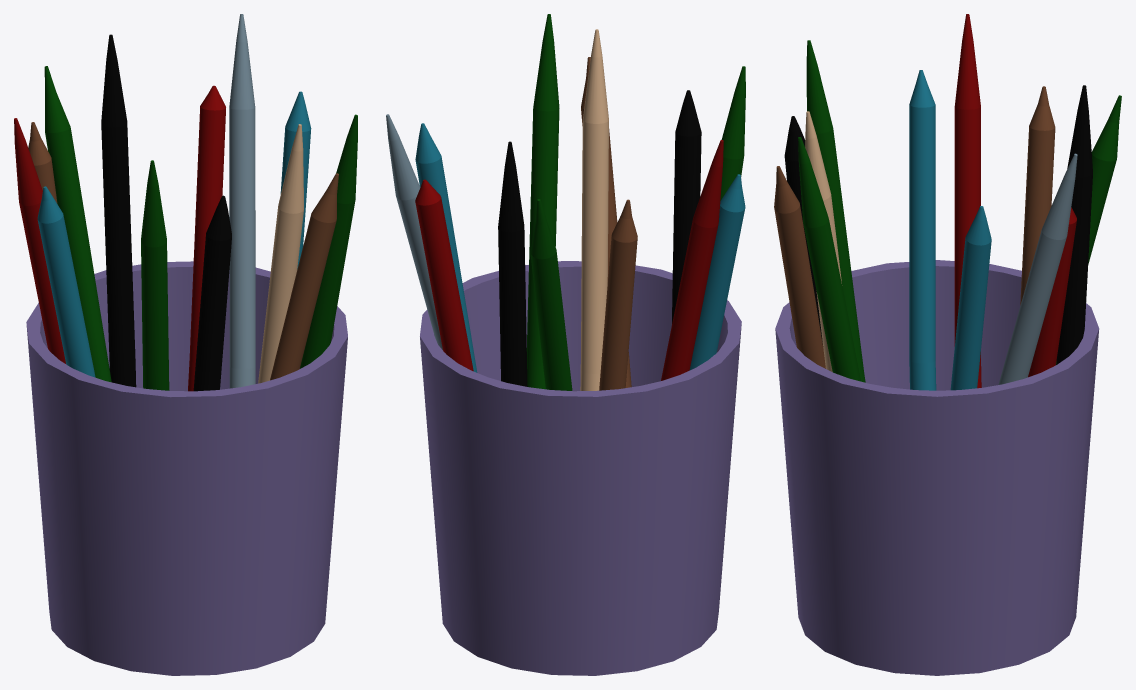
Rendered from PotCrayon_3.fbx.
3 views of the same model, side by side, from view 1: azimuth 30°, elevation 25°; view 2: azimuth 150°, elevation 25°; view 3: azimuth 270°, elevation 25° (orthographic).
Visible parts, largest first — view 1: pPipe106, pCylinder207, pCylinder205, pCylinder230, pCylinder229, pCylinder227, pCylinder232, pCylinder214, pCylinder203, pCylinder231, pCylinder197, pCylinder235 (+2 smaller); view 2: pPipe106, pCylinder227, pCylinder197, pCylinder205, pCylinder235, pCylinder214, pCylinder204, pCylinder230, pCylinder231, pCylinder203, pCylinder207, pCylinder240 (+2 smaller); view 3: pPipe106, pCylinder231, pCylinder197, pCylinder235, pCylinder207, pCylinder205, pCylinder232, pCylinder240, pCylinder229, pCylinder204, pCylinder214, pCylinder230 (+2 smaller).
Boxes of the visible parts, left/top/right/bottom form: pPipe106: left=26, top=261, right=347, bottom=675; pCylinder207: left=229, top=14, right=255, bottom=388; pCylinder205: left=101, top=34, right=136, bottom=387; pCylinder230: left=44, top=66, right=111, bottom=382; pCylinder229: left=141, top=160, right=169, bottom=390; pCylinder227: left=258, top=124, right=303, bottom=383; pCylinder232: left=270, top=173, right=338, bottom=380; pCylinder214: left=188, top=85, right=225, bottom=391; pCylinder203: left=193, top=195, right=231, bottom=391; pCylinder231: left=37, top=186, right=95, bottom=377; pCylinder197: left=300, top=114, right=357, bottom=368; pCylinder235: left=14, top=118, right=65, bottom=363; pPipe106: left=420, top=261, right=741, bottom=675; pCylinder227: left=580, top=29, right=608, bottom=390; pCylinder197: left=526, top=14, right=559, bottom=389; pCylinder205: left=498, top=141, right=527, bottom=386; pCylinder235: left=661, top=140, right=723, bottom=380; pCylinder214: left=415, top=179, right=473, bottom=371; pCylinder204: left=599, top=199, right=637, bottom=390; pCylinder230: left=530, top=199, right=572, bottom=390; pCylinder231: left=689, top=174, right=745, bottom=370; pCylinder203: left=672, top=90, right=701, bottom=323; pCylinder207: left=386, top=114, right=442, bottom=349; pCylinder240: left=415, top=123, right=477, bottom=372; pPipe106: left=775, top=260, right=1099, bottom=675; pCylinder231: left=909, top=70, right=936, bottom=390; pCylinder197: left=798, top=137, right=860, bottom=381; pCylinder235: left=954, top=14, right=981, bottom=388; pCylinder207: left=998, top=153, right=1077, bottom=384; pCylinder205: left=1056, top=85, right=1092, bottom=364; pCylinder232: left=774, top=166, right=825, bottom=368; pCylinder240: left=950, top=206, right=991, bottom=390; pCylinder229: left=806, top=40, right=865, bottom=382; pCylinder204: left=1020, top=86, right=1055, bottom=305; pCylinder214: left=1028, top=207, right=1076, bottom=377; pCylinder230: left=1056, top=95, right=1121, bottom=364.
Bounding box in the file's own units: 7.61 × 12.8 × 7.61.
